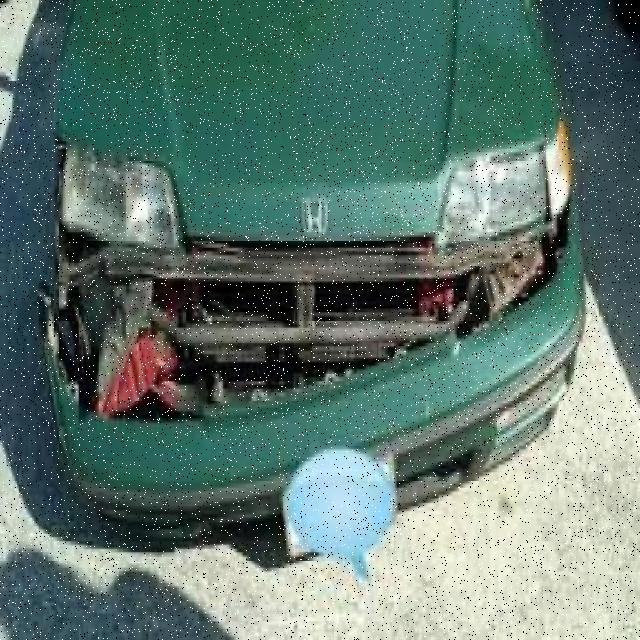damage: (42, 171, 579, 493)
